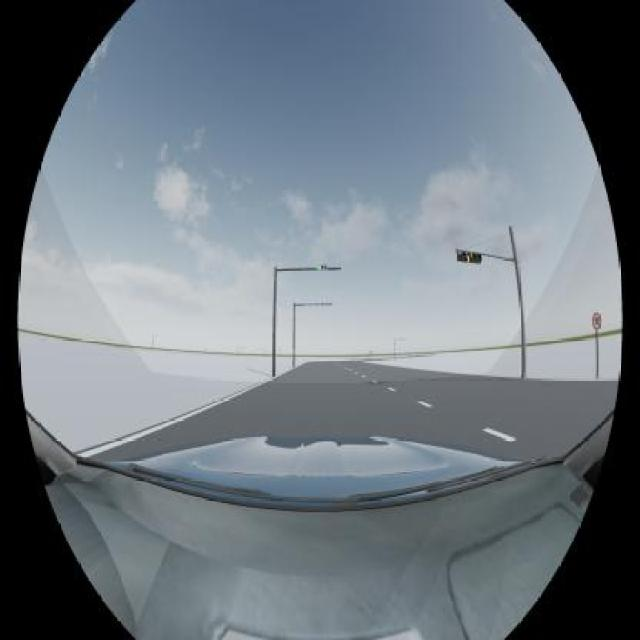forb_speed_over_100: (593, 313, 602, 330)
